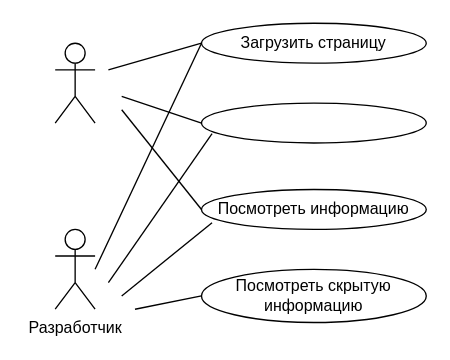
Some shapes in this 450 by 360 pixel diagram are drawn without their labels. Each missing label, with the centre of its shape:
Ввести ID: (313,122)
Пользователь: (74,82)
